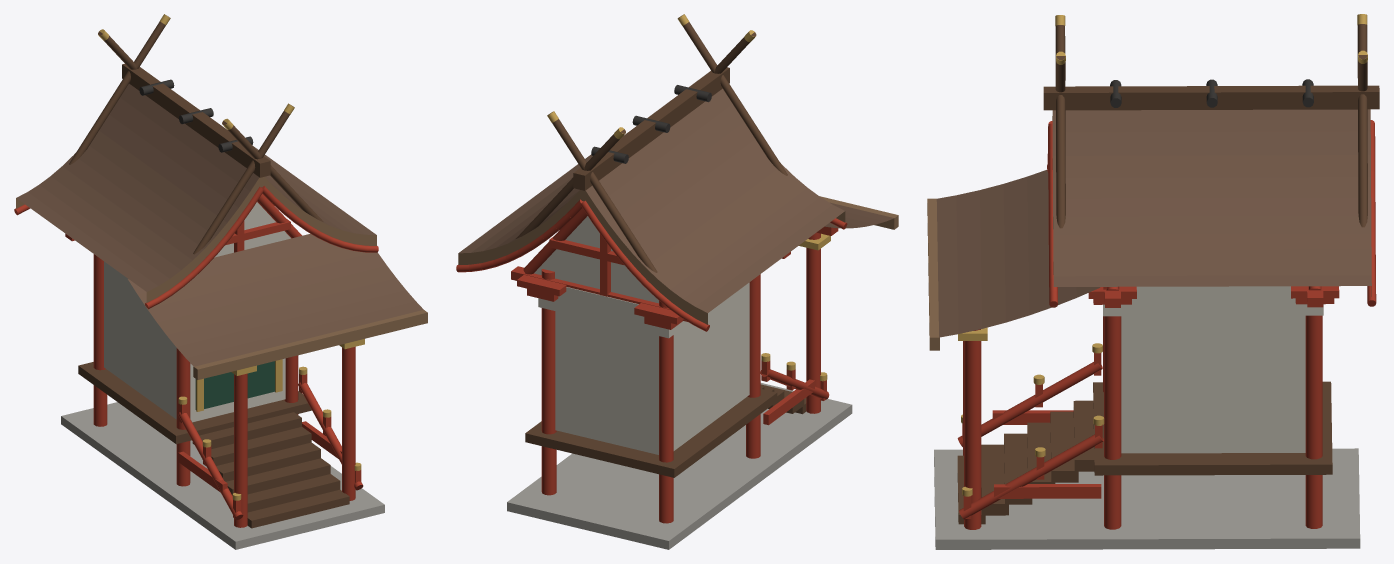
The model's file is kasuga-honden-3.glb.
3 renders of one model, left to right at view 1: azimuth 30°, elevation 25°; view 2: azimuth 150°, elevation 25°; view 3: azimuth 270°, elevation 25°, orthographic. The views are drawn at different scales.
Bounding box in the file's own units: 4.15 × 6.49 × 5.64.
